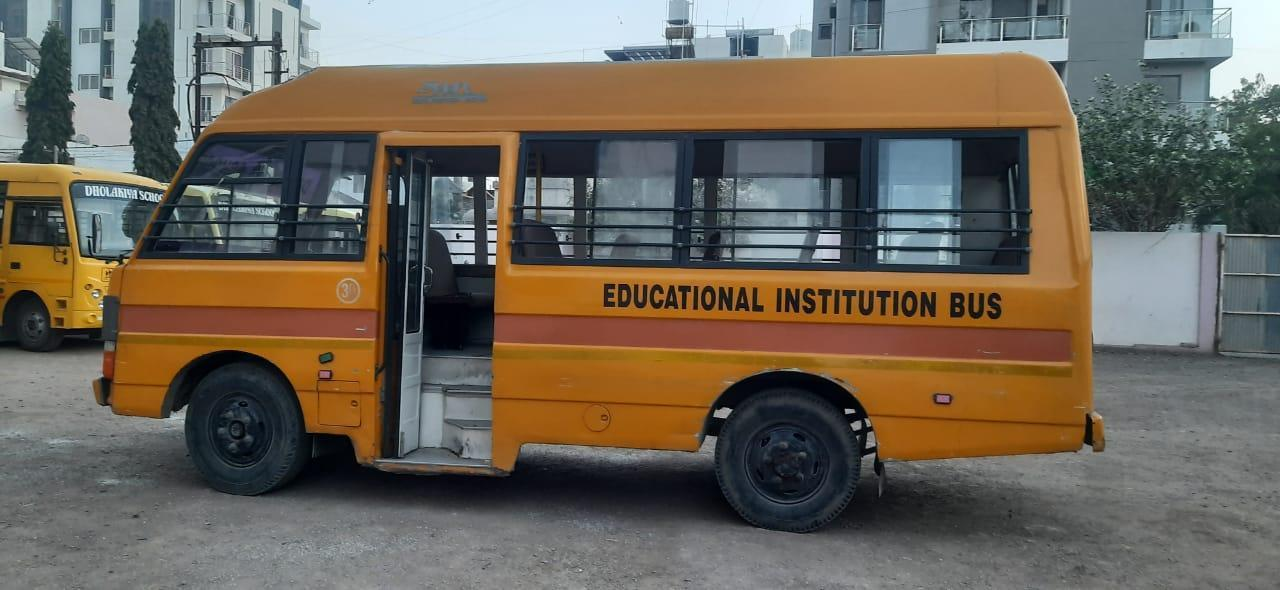Bus: (98, 49, 1137, 531), (5, 159, 167, 365)
